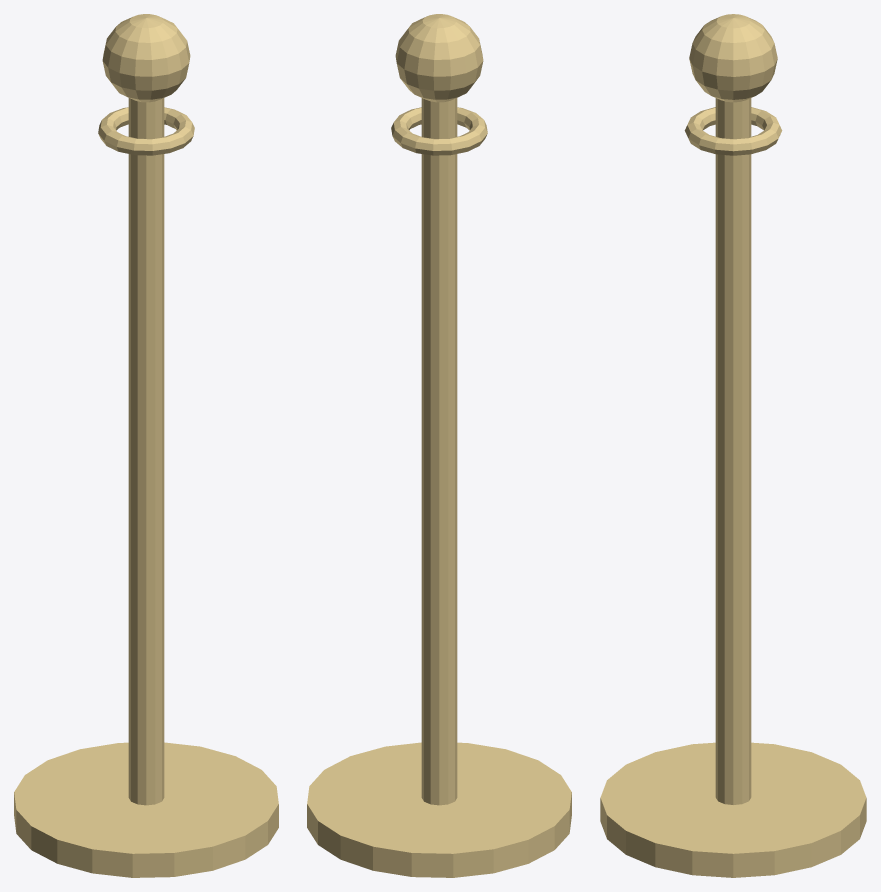
Rendered from prop_rope_post.glb.
3 renders of one model, left to right at view 1: azimuth 30°, elevation 25°; view 2: azimuth 150°, elevation 25°; view 3: azimuth 270°, elevation 25°, orthographic.
Parts seen in each view (by area): view 1: Post; view 2: Post; view 3: Post.
Boxes of the visible parts, bbox=[...] form: Post: bbox=[14, 14, 278, 877]; Post: bbox=[307, 14, 571, 877]; Post: bbox=[600, 14, 866, 877].
Bounding box in the file's own units: 0.3 × 1 × 0.3.
